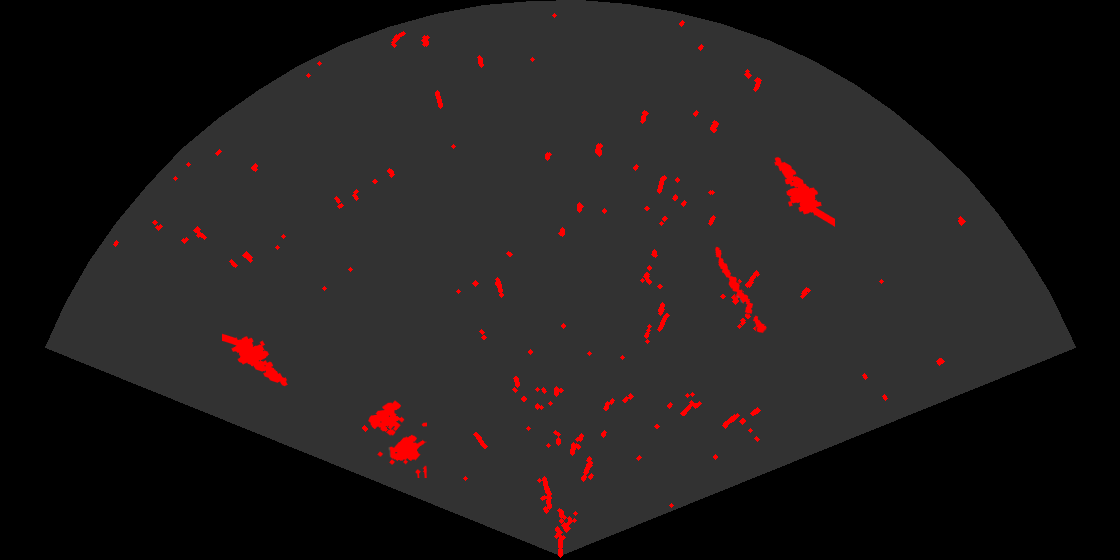cage: (367, 399, 427, 478)
chain: (713, 245, 768, 335)
frogman: (773, 155, 835, 227), (222, 332, 289, 388)
